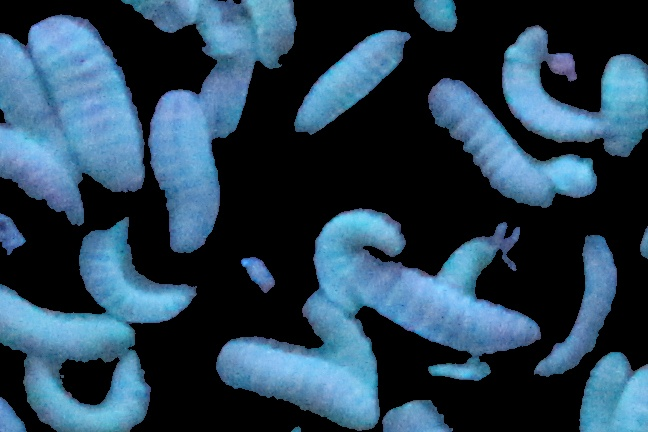larvae: (28, 17, 147, 189), (429, 77, 557, 206), (357, 260, 539, 349), (219, 335, 379, 427), (291, 29, 408, 133), (146, 92, 221, 253), (535, 233, 620, 375), (1, 33, 81, 181), (79, 232, 196, 321), (1, 285, 134, 363), (307, 210, 402, 314), (18, 357, 150, 430), (500, 46, 598, 140), (1, 130, 84, 221), (300, 298, 377, 377), (594, 54, 648, 158), (200, 42, 255, 138), (580, 351, 635, 432), (440, 236, 504, 297), (245, 1, 297, 72), (614, 358, 648, 432)
